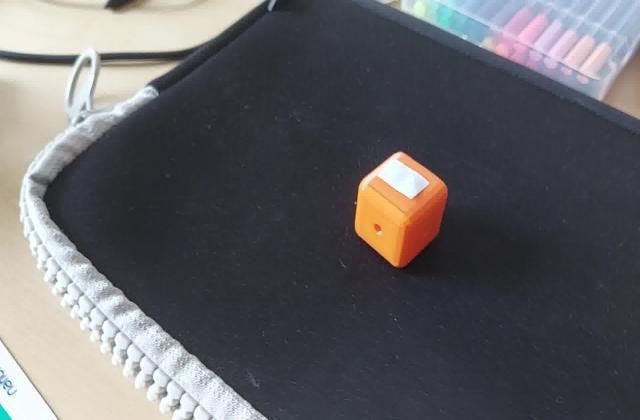sticker: (348, 148, 450, 272)
white: (389, 168, 434, 201)
